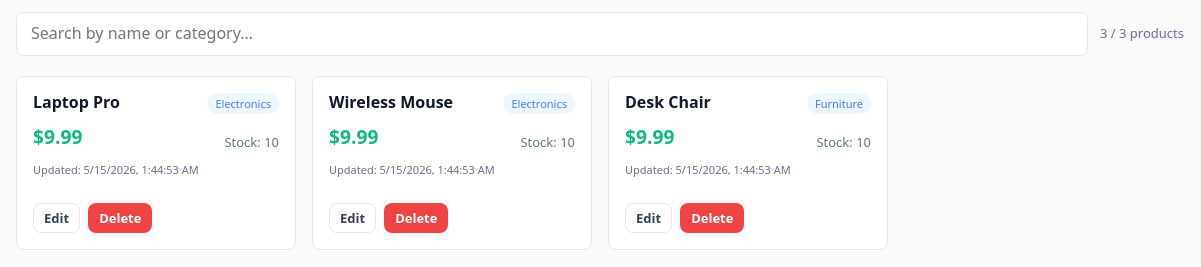
ProductList › filters products by name when searching
Step 1. Type "laptop" into the search field → (552, 34), box [16,12,1088,56]
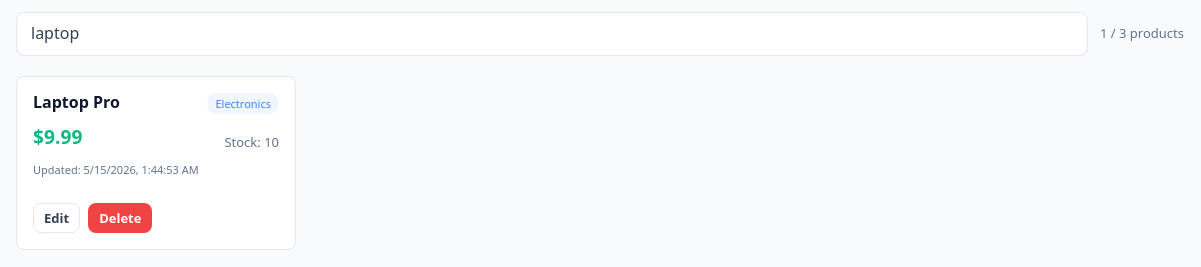
Expected: the heading "Laptop Pro" is shown, [33,93,120,112]
Expected: the heading "Desk Chair" is gone
